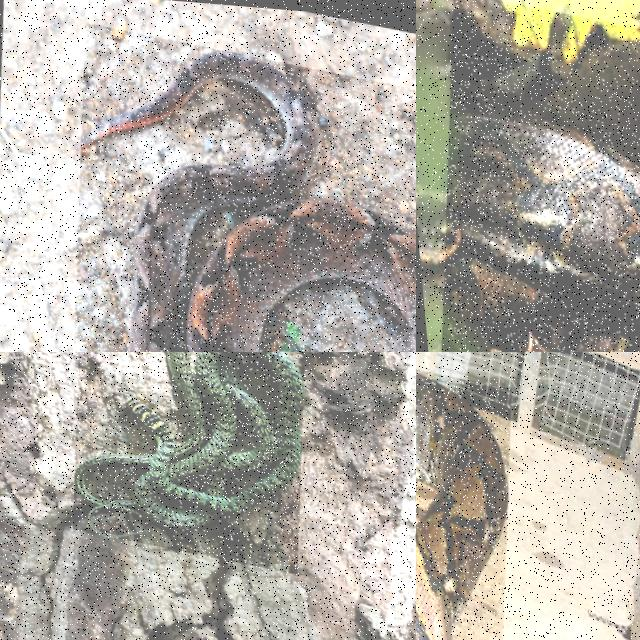Calloselasma rhodostoma: (80, 53, 415, 351)
Chrysopelea ornata: (75, 352, 302, 537)
Malayopython reticulatus: (446, 115, 639, 323), (416, 375, 507, 639)
